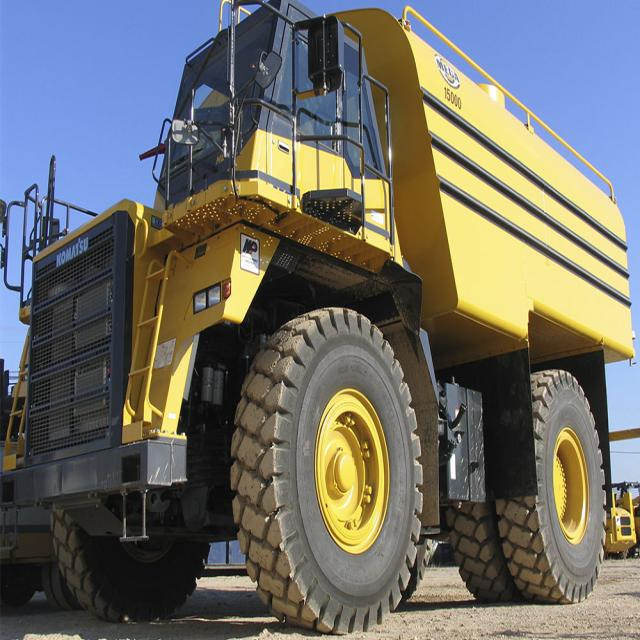dump_truck: (3, 0, 639, 636)
